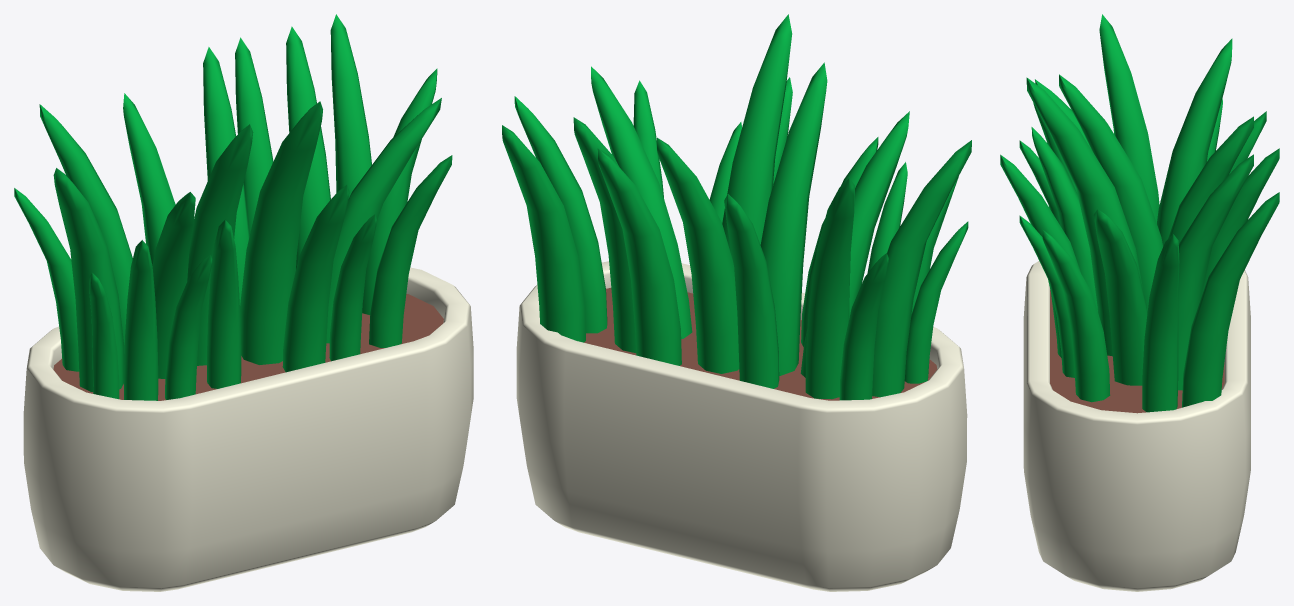
The model's file is Town_10_Plant_2.glb.
3 renders of one model, left to right at view 1: azimuth 30°, elevation 25°; view 2: azimuth 150°, elevation 25°; view 3: azimuth 270°, elevation 25°, orthographic. The views are drawn at different scales.
Parts seen in each view (by area): view 1: Town_10_Plant_2; view 2: Town_10_Plant_2; view 3: Town_10_Plant_2.
Boxes of the visible parts, x1,y1,x2,y2 form: Town_10_Plant_2: [14, 14, 473, 591]; Town_10_Plant_2: [502, 14, 971, 591]; Town_10_Plant_2: [1000, 14, 1279, 591].
Size of the model in its own units: 0.5968 by 0.6326 by 0.367.
1 material, 1 textured.
